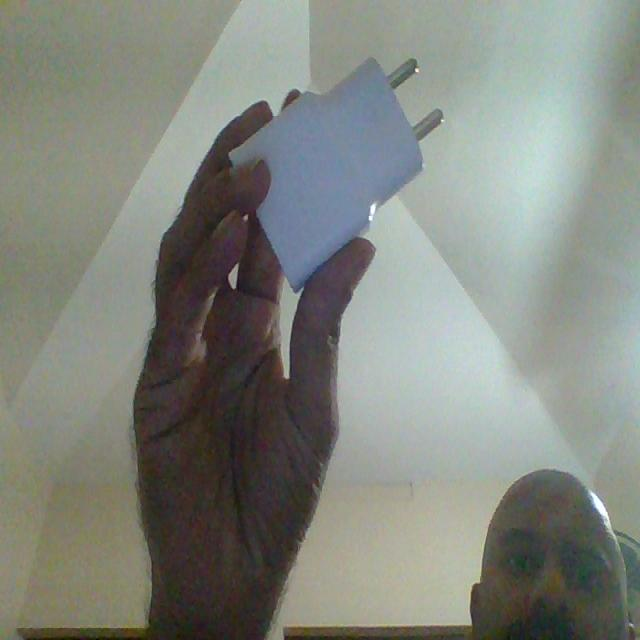charger: (230, 58, 444, 291)
